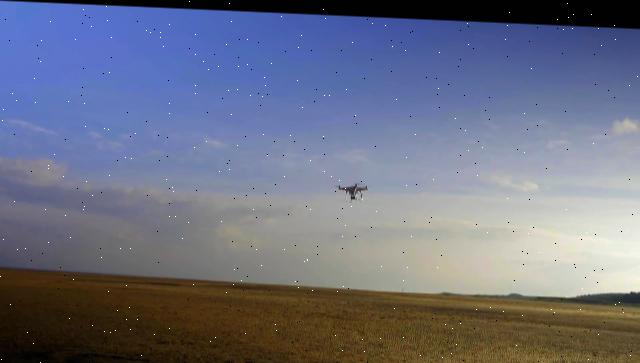drone: (336, 177, 372, 199)
